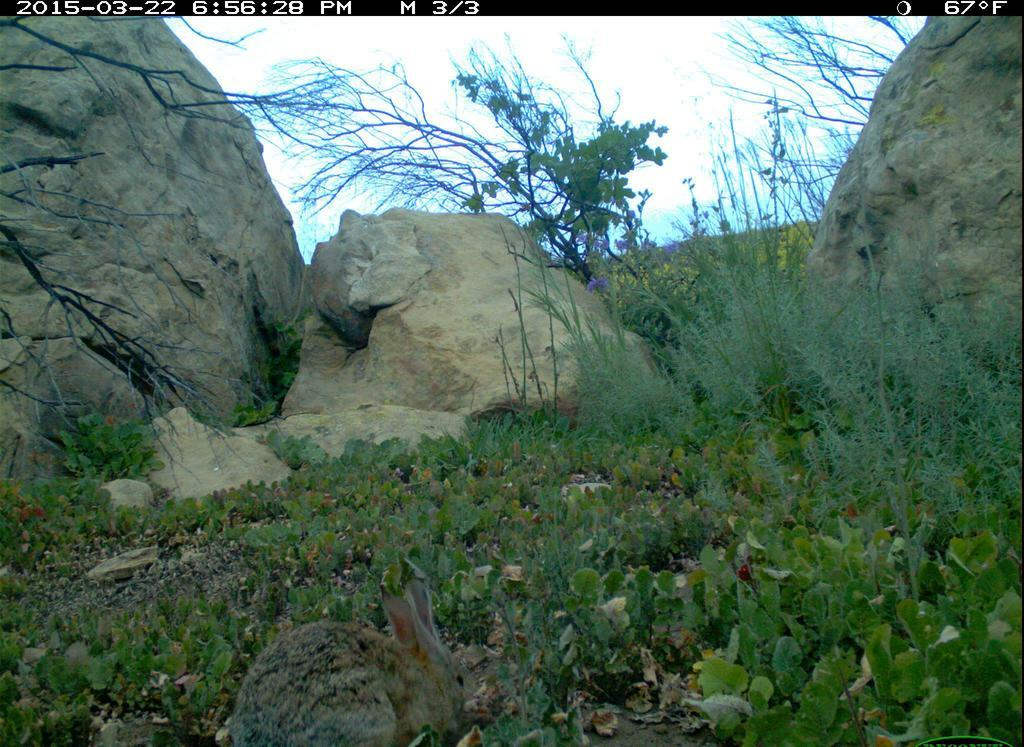rabbit: (219, 568, 488, 737)
